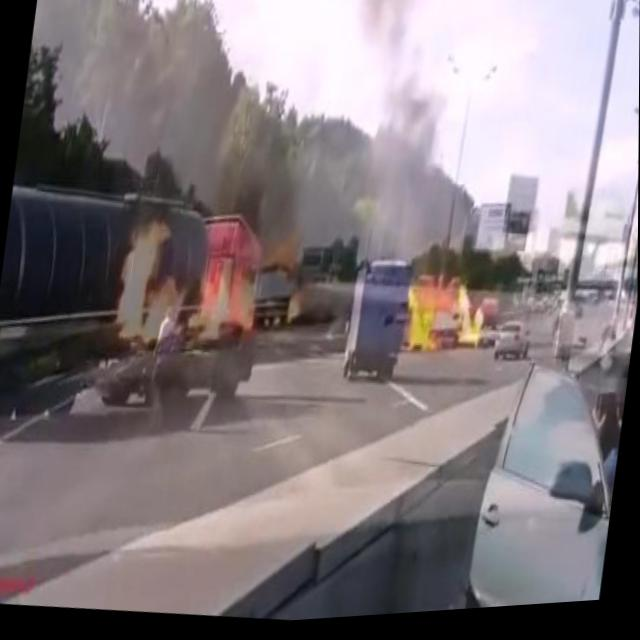fire: (108, 209, 238, 360), (401, 275, 489, 370)
